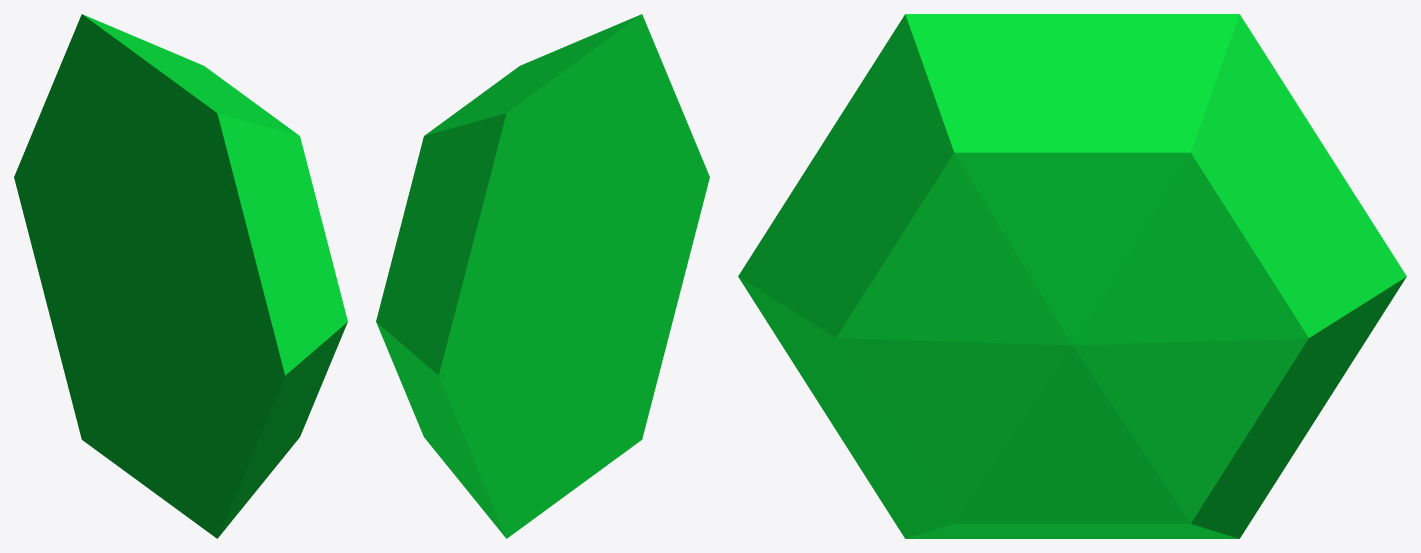
File: Screw_B.fbx
The picture shows the model from 3 angles, left to right: view 1: azimuth 30°, elevation 25°; view 2: azimuth 150°, elevation 25°; view 3: azimuth 270°, elevation 25°; orthographic projection. The views are drawn at different scales.
Parts seen in each view (by area): view 1: Screw_B; view 2: Screw_B; view 3: Screw_B.
Part boxes in pixels (bbox=[...]): Screw_B: bbox=[14, 14, 347, 538]; Screw_B: bbox=[376, 14, 709, 538]; Screw_B: bbox=[738, 14, 1406, 538].
Size of the model in its own units: 0.2001 by 0.7107 by 0.8207.
